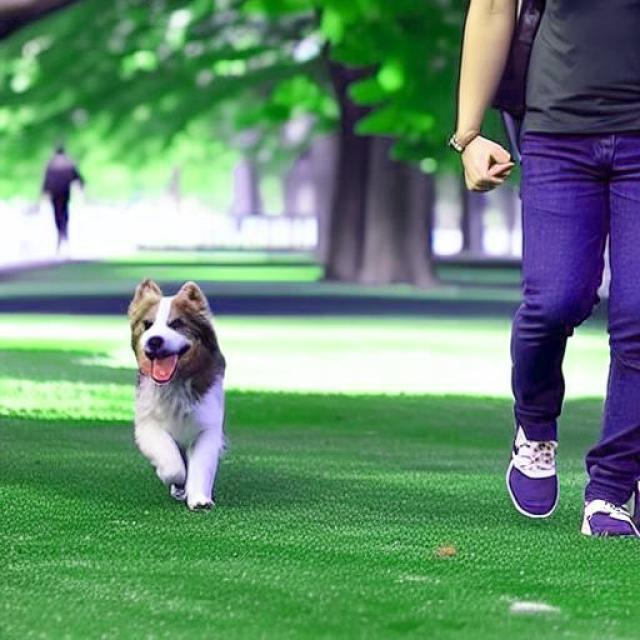Unleashed_Dog: (127, 110, 640, 510)
